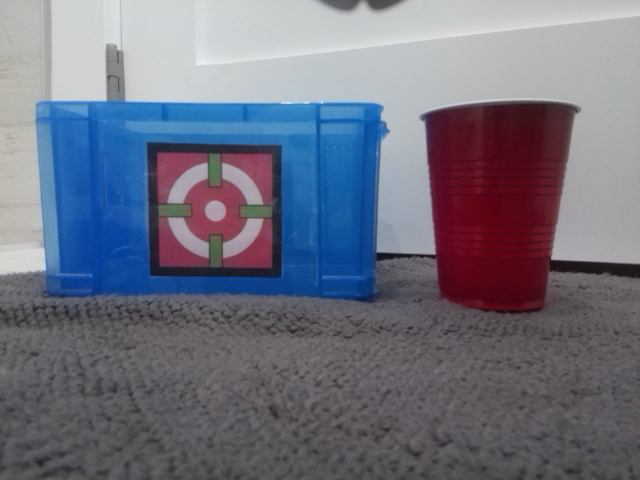drop-bin: (145, 141, 283, 279)
